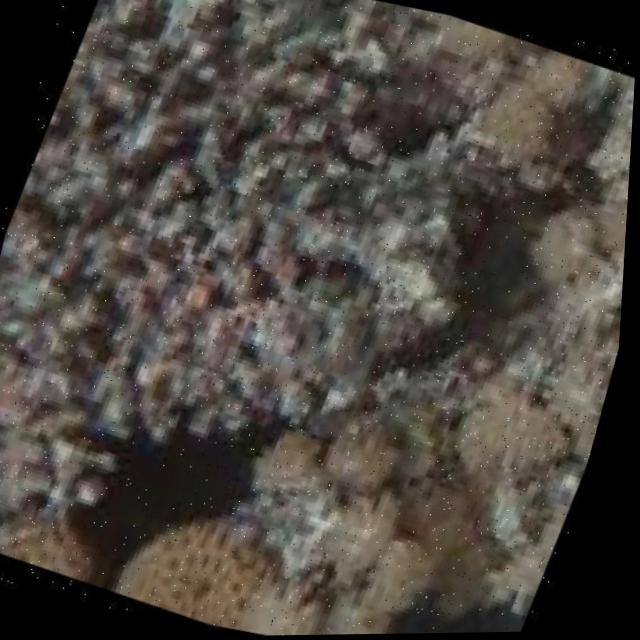Healthy Coral: (0, 354, 595, 640)
